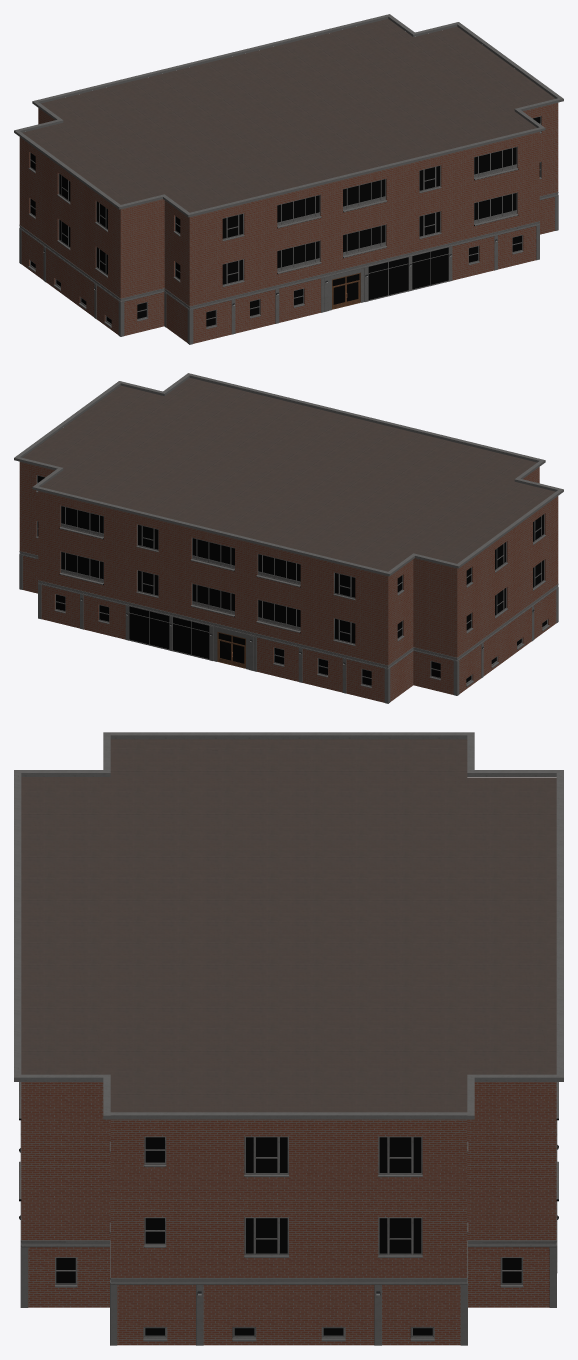
Rendered from building_1.fbx.
3 renders of one model, top to bottom at view 1: azimuth 30°, elevation 25°; view 2: azimuth 150°, elevation 25°; view 3: azimuth 270°, elevation 25°, orthographic. The views are drawn at different scales.
Parts seen in each view (by area): view 1: building_1_top, building_1_middle, building_1_bottom; view 2: building_1_top, building_1_middle, building_1_bottom; view 3: building_1_top, building_1_middle, building_1_bottom.
Part boxes in pixels (<box>): building_1_top: <box>14,14,563,217</box>; building_1_middle: <box>19,102,558,306</box>; building_1_bottom: <box>19,192,558,344</box>; building_1_top: <box>14,373,563,576</box>; building_1_middle: <box>19,461,558,665</box>; building_1_bottom: <box>19,551,558,703</box>; building_1_top: <box>14,732,563,1119</box>; building_1_middle: <box>19,1082,558,1277</box>; building_1_bottom: <box>19,1135,558,1345</box>.
Bounding box in the file's own units: 6100 × 1730 × 3700.
